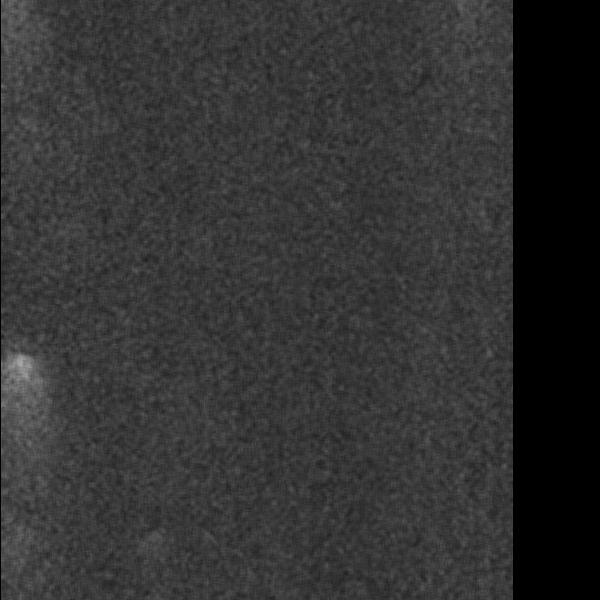spark: (1, 349, 38, 432), (8, 522, 30, 574)
